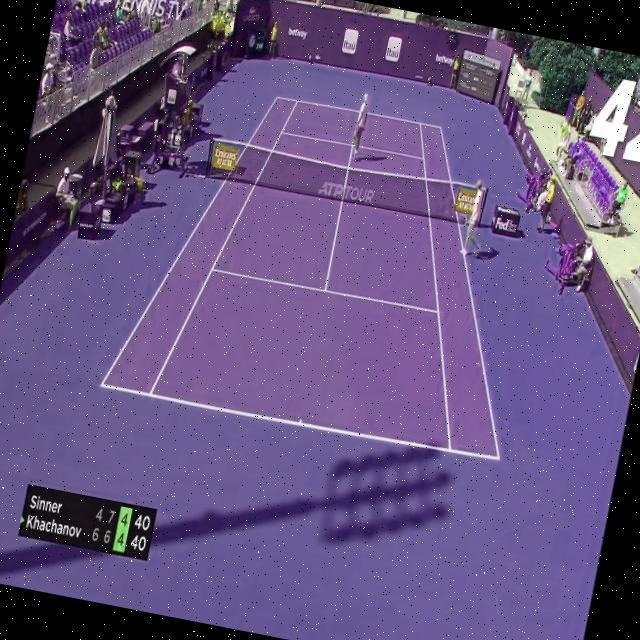court: (99, 72, 561, 466)
net: (203, 133, 490, 230)
player: (451, 178, 493, 260)
